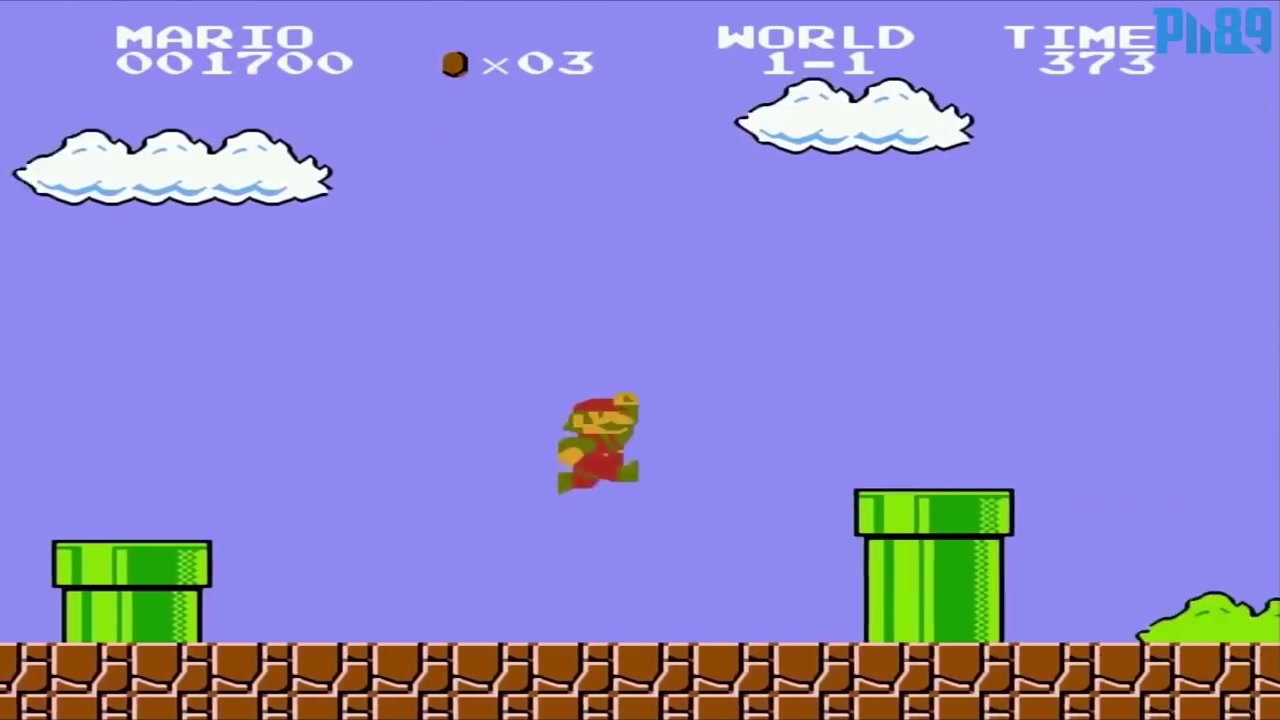mario: (544, 387, 645, 500)
